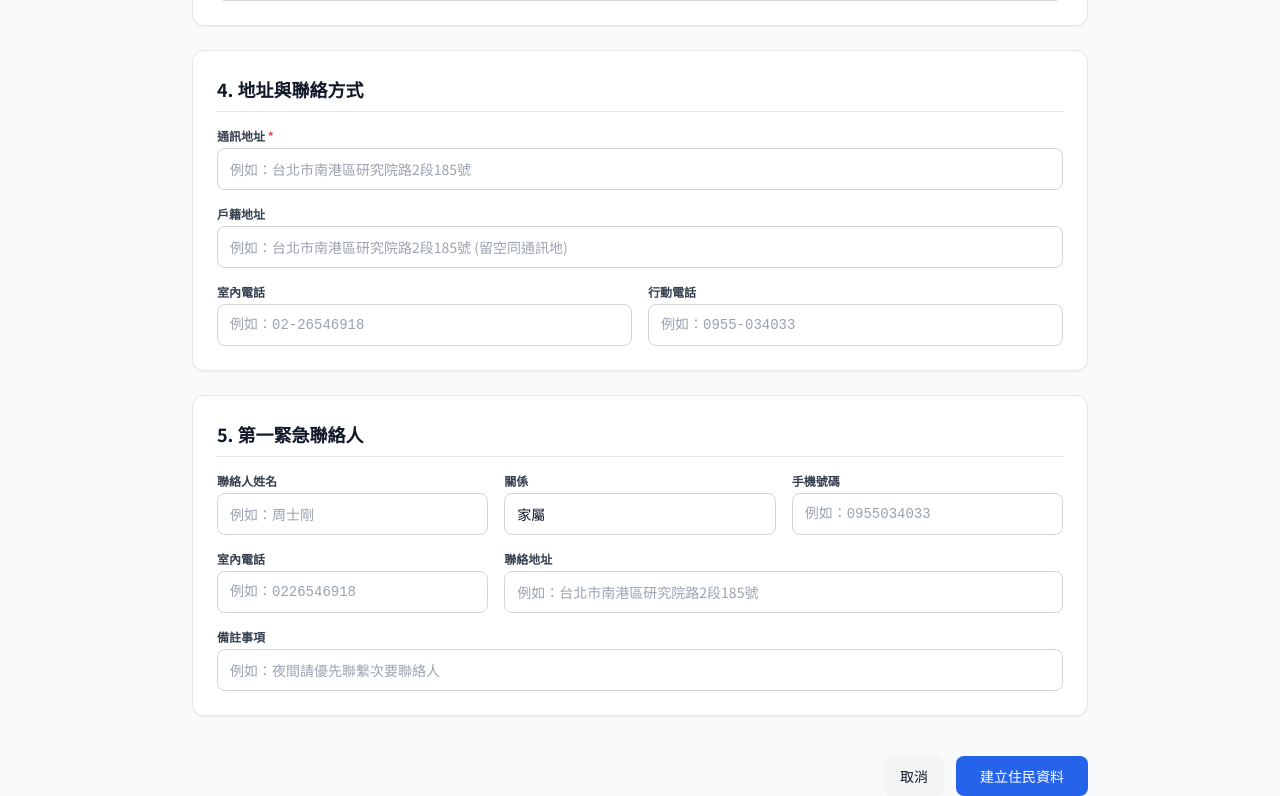
it: ResidentFormPage › renders create form and performs client-side validation
The image size is (1280, 796).
(page scrolled)
Click the button "建立住民資料".
click(1022, 776)  # box [956,756,1088,795]
(page scrolled)
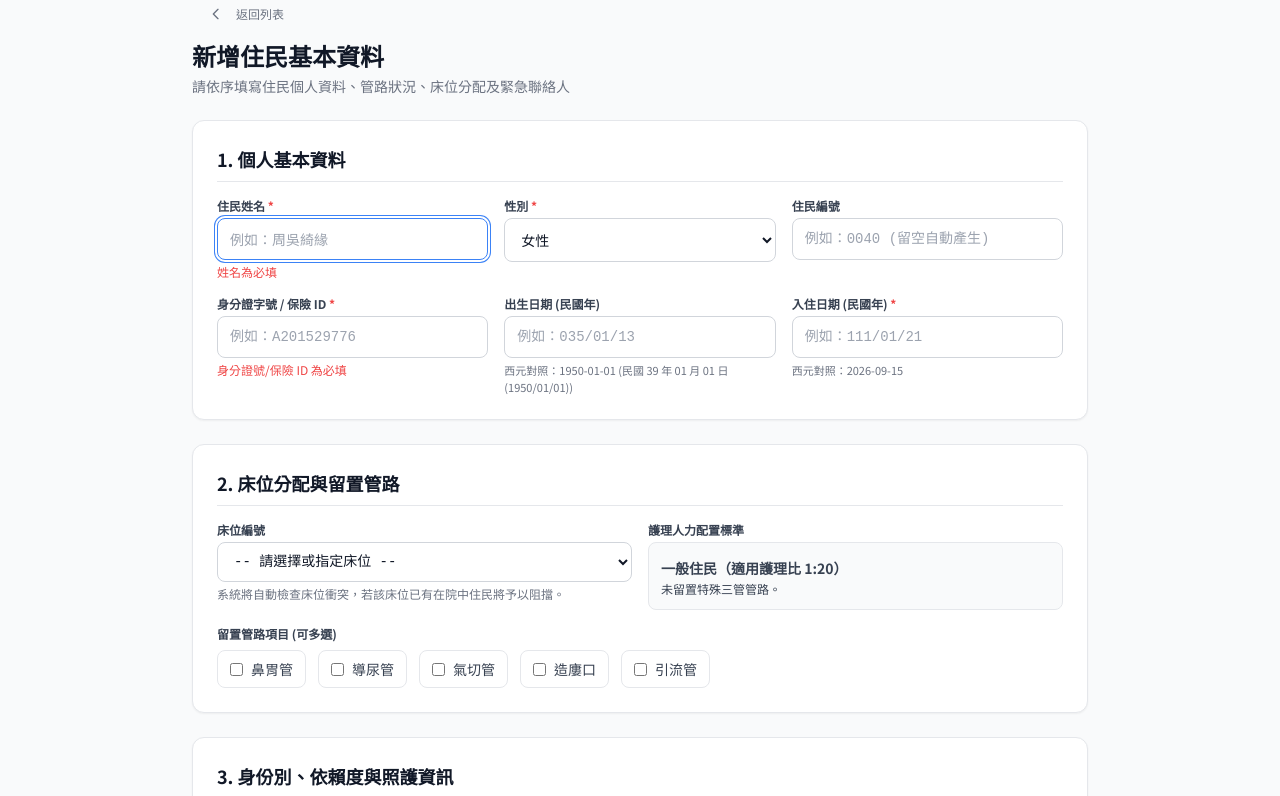
Expected: the text "姓名為必填" is shown, [217,263,277,280]
Expected: the text "身分證號/保險 ID 為必填" is shown, [217,361,347,378]
